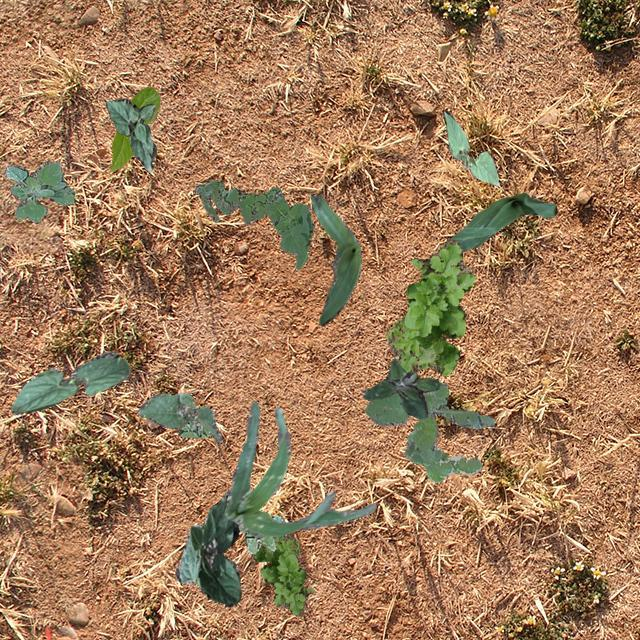crop: (224, 400, 374, 536), (174, 488, 240, 606), (10, 351, 130, 414), (310, 192, 360, 324), (448, 192, 556, 250), (137, 392, 220, 442), (442, 110, 498, 184), (110, 86, 158, 170), (104, 98, 156, 170)
weed: (364, 382, 494, 482), (386, 238, 474, 374), (194, 178, 312, 268), (252, 534, 312, 614), (362, 356, 439, 418), (4, 160, 74, 222), (238, 514, 284, 552), (173, 421, 210, 436)
